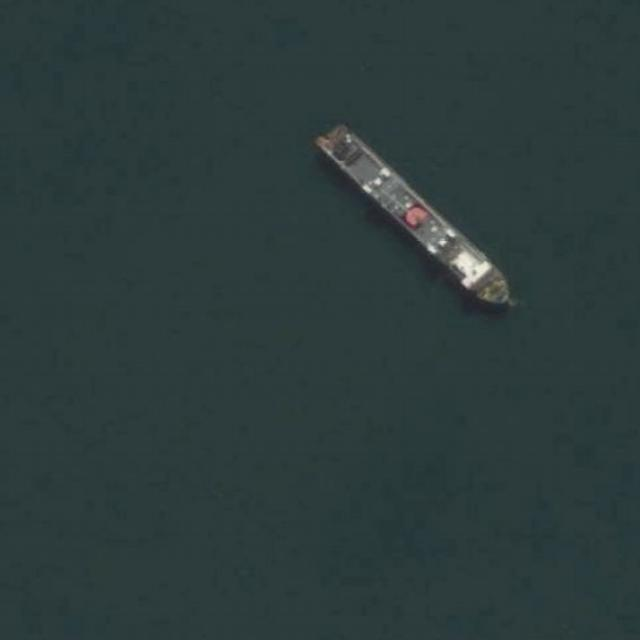ship: (313, 121, 516, 312)
